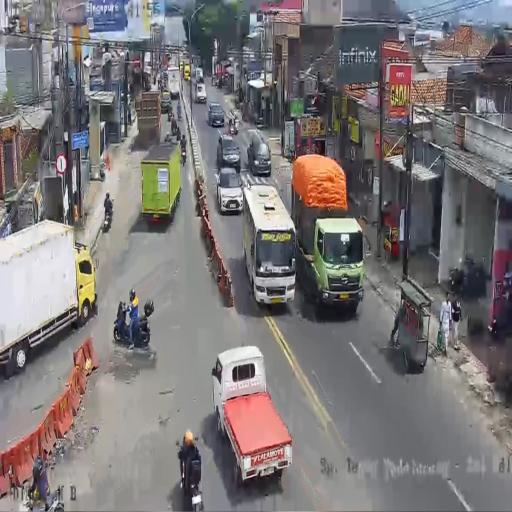car: (216, 165, 243, 214), (245, 130, 271, 177), (216, 132, 241, 173), (207, 101, 225, 127), (194, 79, 206, 103), (160, 90, 171, 112), (195, 66, 203, 81), (184, 64, 191, 81)
motorcycle: (113, 304, 154, 355), (103, 204, 113, 230), (180, 144, 186, 167), (171, 116, 177, 135), (176, 127, 181, 147), (158, 77, 163, 92), (167, 107, 172, 122), (177, 105, 182, 120)
truck: (2, 220, 98, 377), (141, 140, 182, 224), (168, 66, 180, 99), (143, 52, 153, 84)
